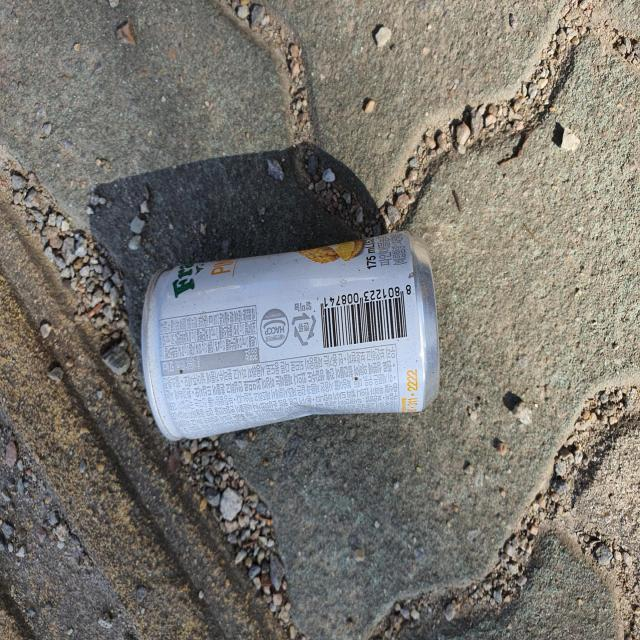can: (141, 232, 440, 440)
